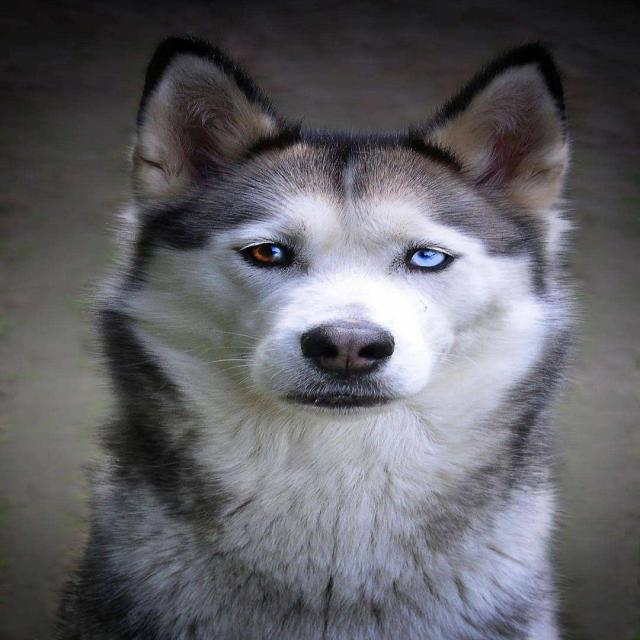eye: (232, 236, 302, 271), (399, 243, 455, 274)
